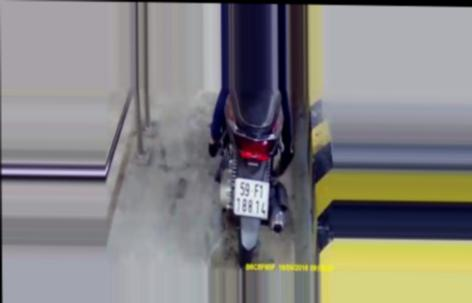License_Plate: (229, 173, 273, 223)
